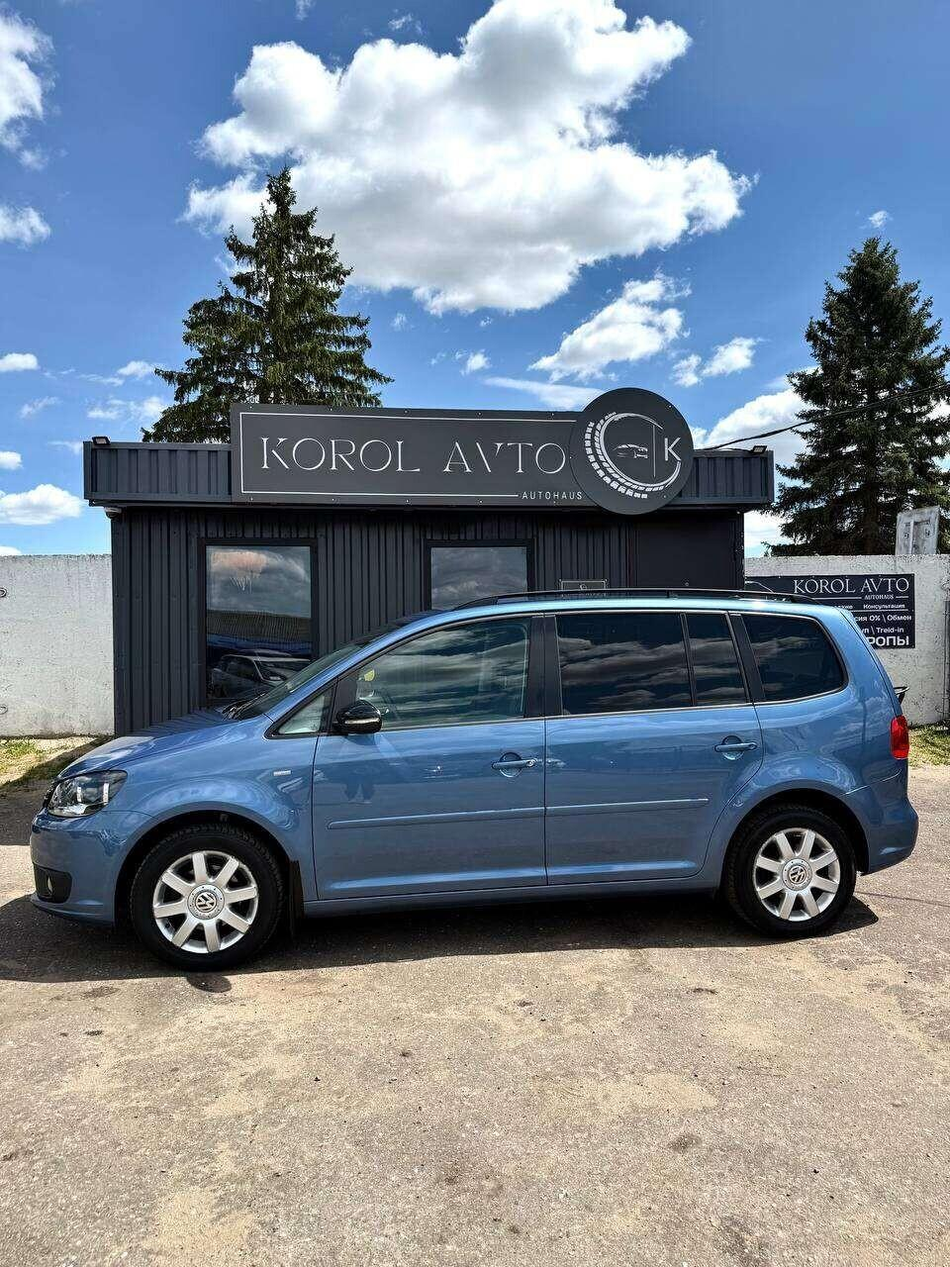Touran_2010-2015: (20, 591, 914, 960)
